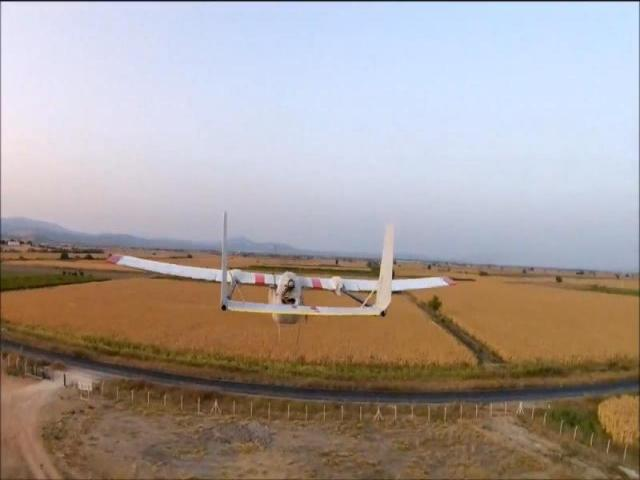hedef: (105, 205, 458, 328)
